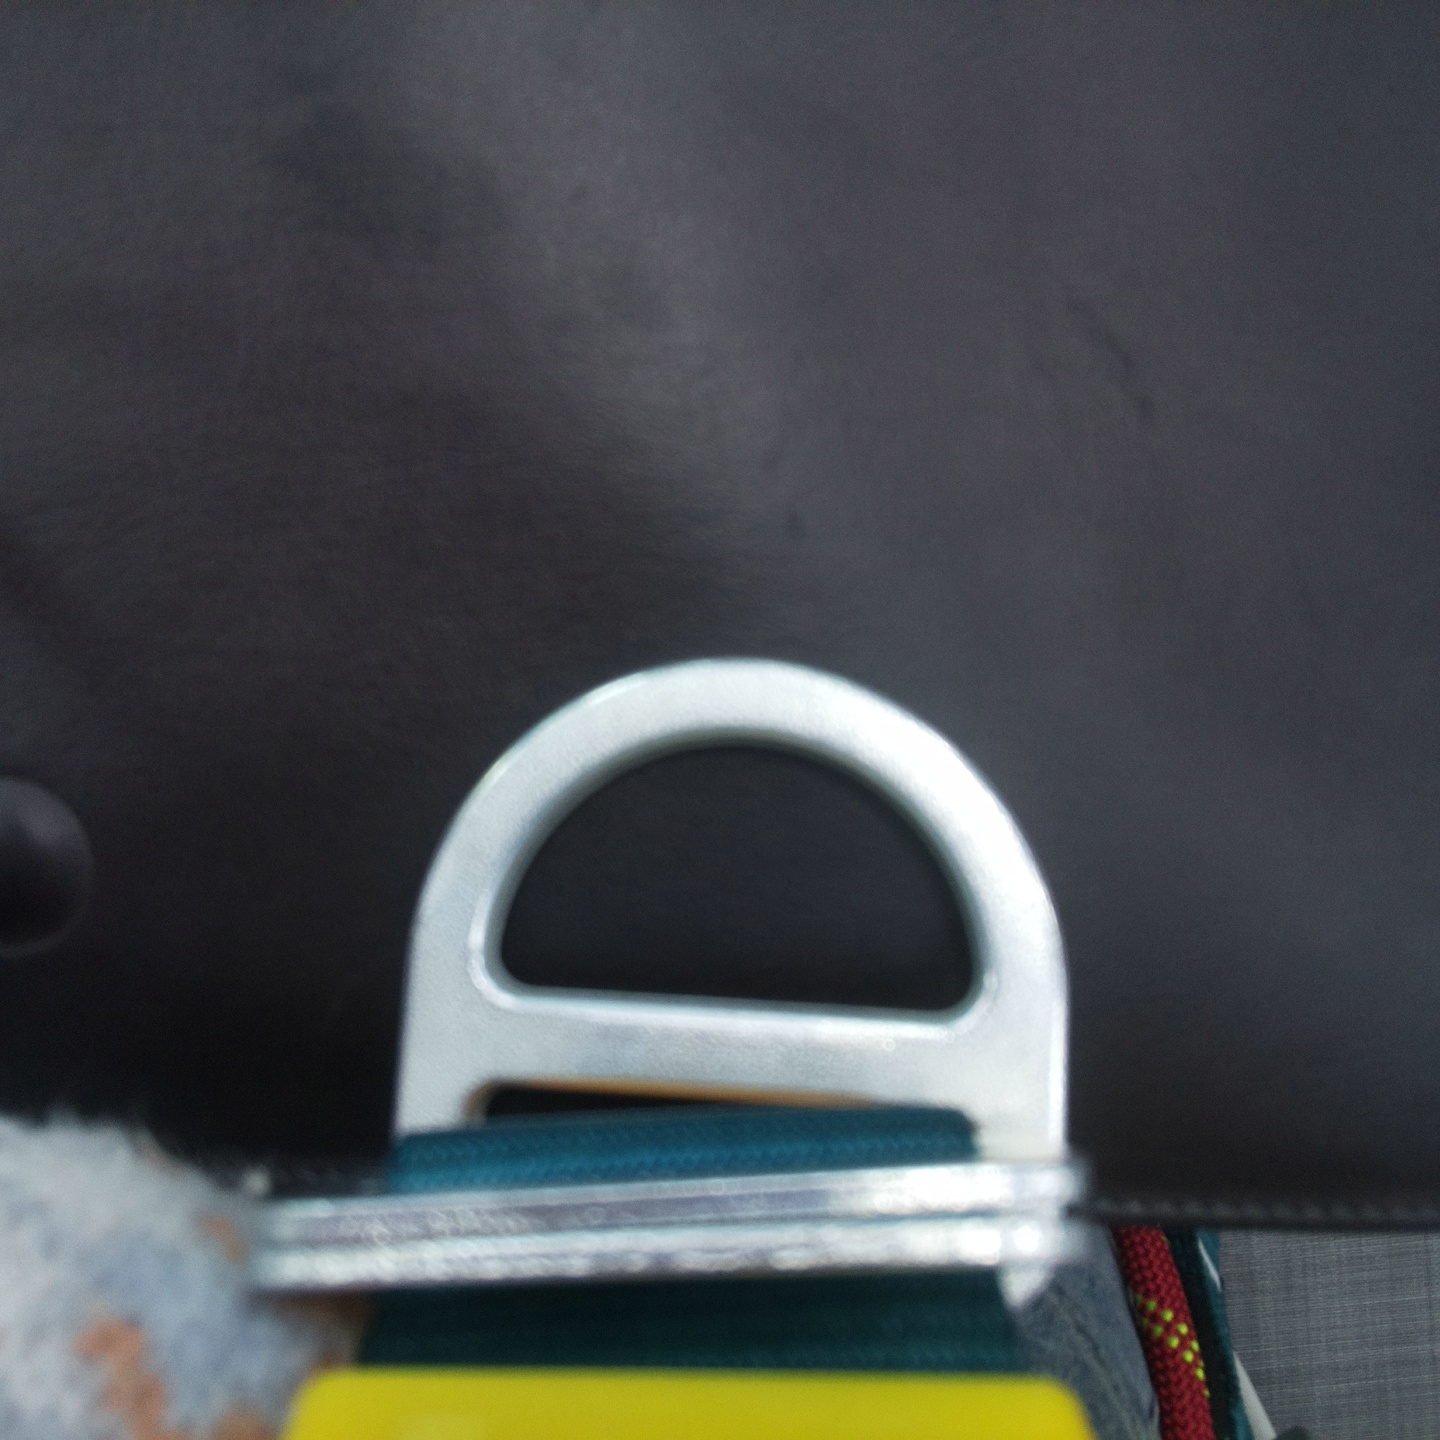UNSUCCESS: (375, 649, 1083, 1124)
